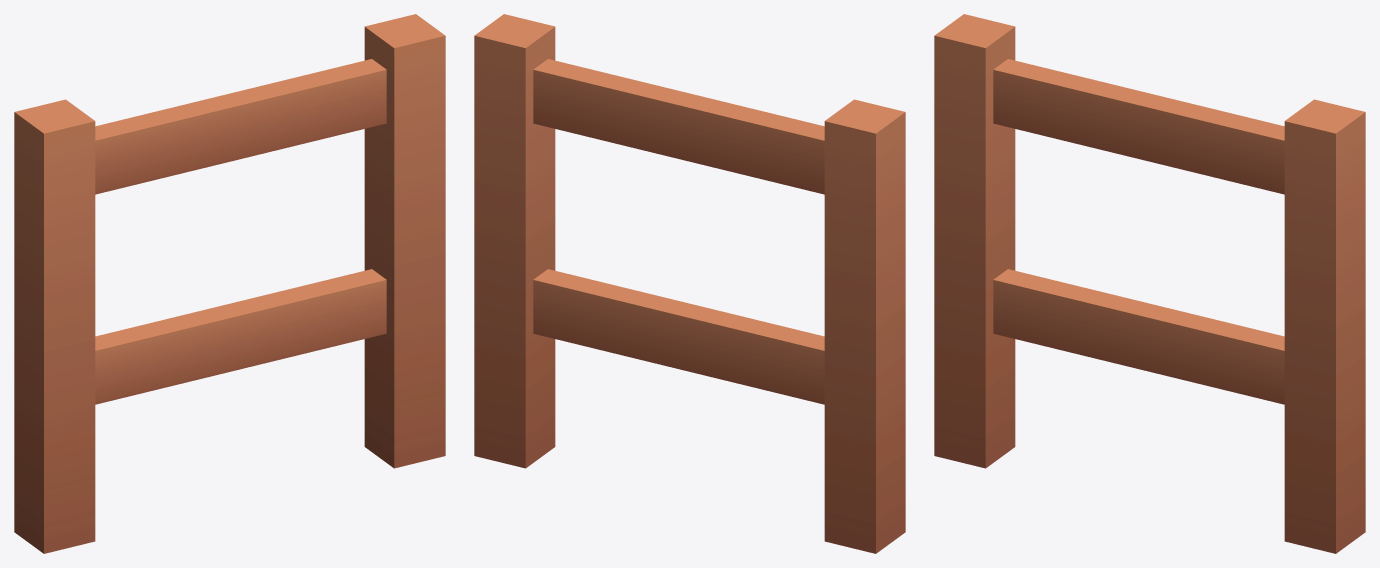
Rendered from kenney-tower-defense-wood-structure-high-part.glb.
3 views of the same model, side by side, from view 1: azimuth 30°, elevation 25°; view 2: azimuth 150°, elevation 25°; view 3: azimuth 330°, elevation 25° (orthographic).
Parts seen in each view (by area): view 1: wood-structure-high-part; view 2: wood-structure-high-part; view 3: wood-structure-high-part.
Part boxes in pixels (x1,y1,x2,y2): wood-structure-high-part: (14,14,445,553); wood-structure-high-part: (474,14,905,553); wood-structure-high-part: (934,14,1365,553).
Bounding box in the file's own units: 1 × 1 × 0.1279.
Materials: 1 (1 with a texture image).
